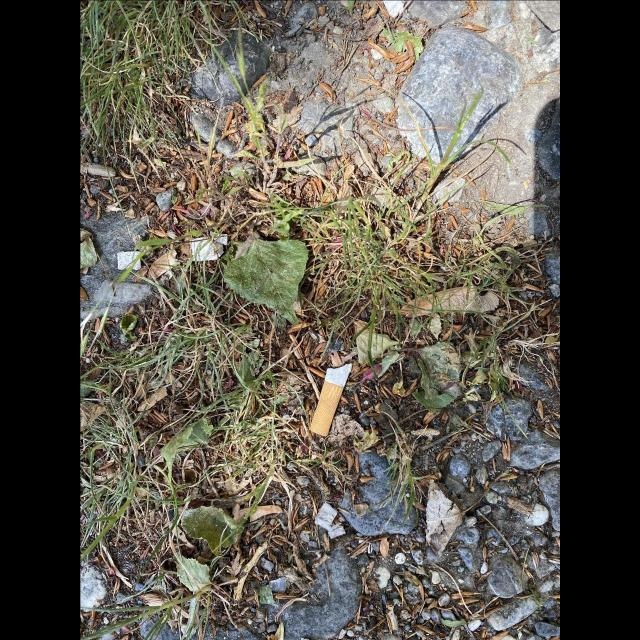cigarette: (310, 361, 352, 436)
